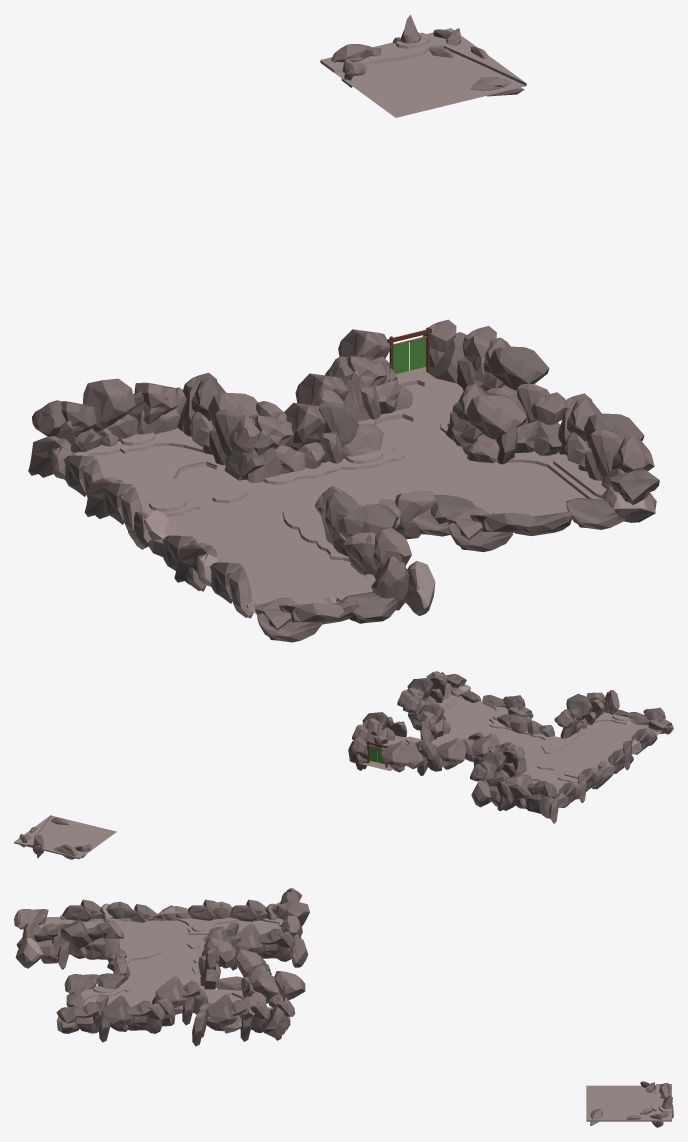
The model's file is Cave.FBX.
3 views of the same model, one above another, from view 1: azimuth 30°, elevation 25°; view 2: azimuth 150°, elevation 25°; view 3: azimuth 270°, elevation 25° (orthographic). The views are drawn at different scales.
Parts seen in each view (by area): view 1: Plane019; view 2: Plane019; view 3: Plane019.
Part boxes in pixels (x1=…): Plane019: x1=28, y1=15, x2=659, y2=642; Plane019: x1=14, y1=671, x2=673, y2=859; Plane019: x1=14, y1=888, x2=673, y2=1127.
Size of the model in its own units: 1260 by 131 by 1682.
